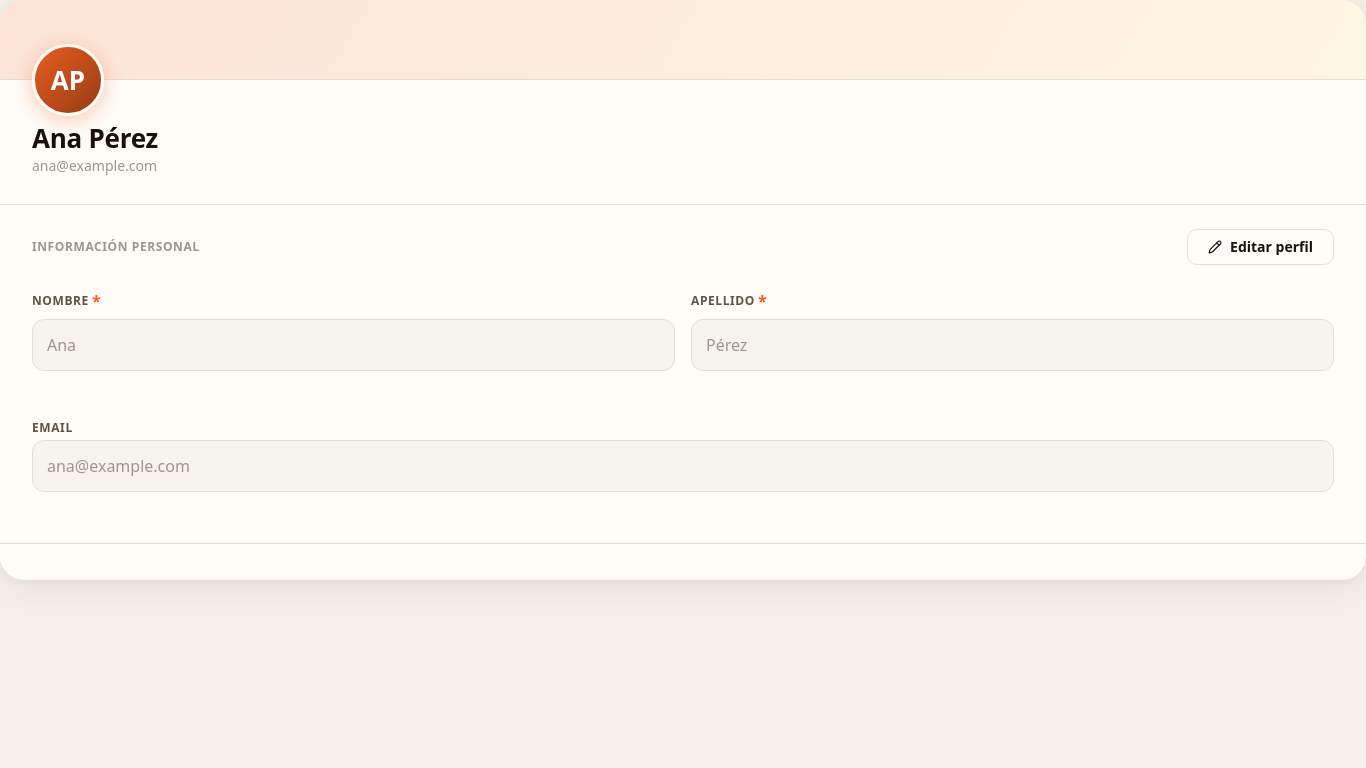
ProfileForm › restores the loaded values when Cancelar is clicked
Click the button "Editar perfil" at (1260, 247), box [1187,229,1334,265]
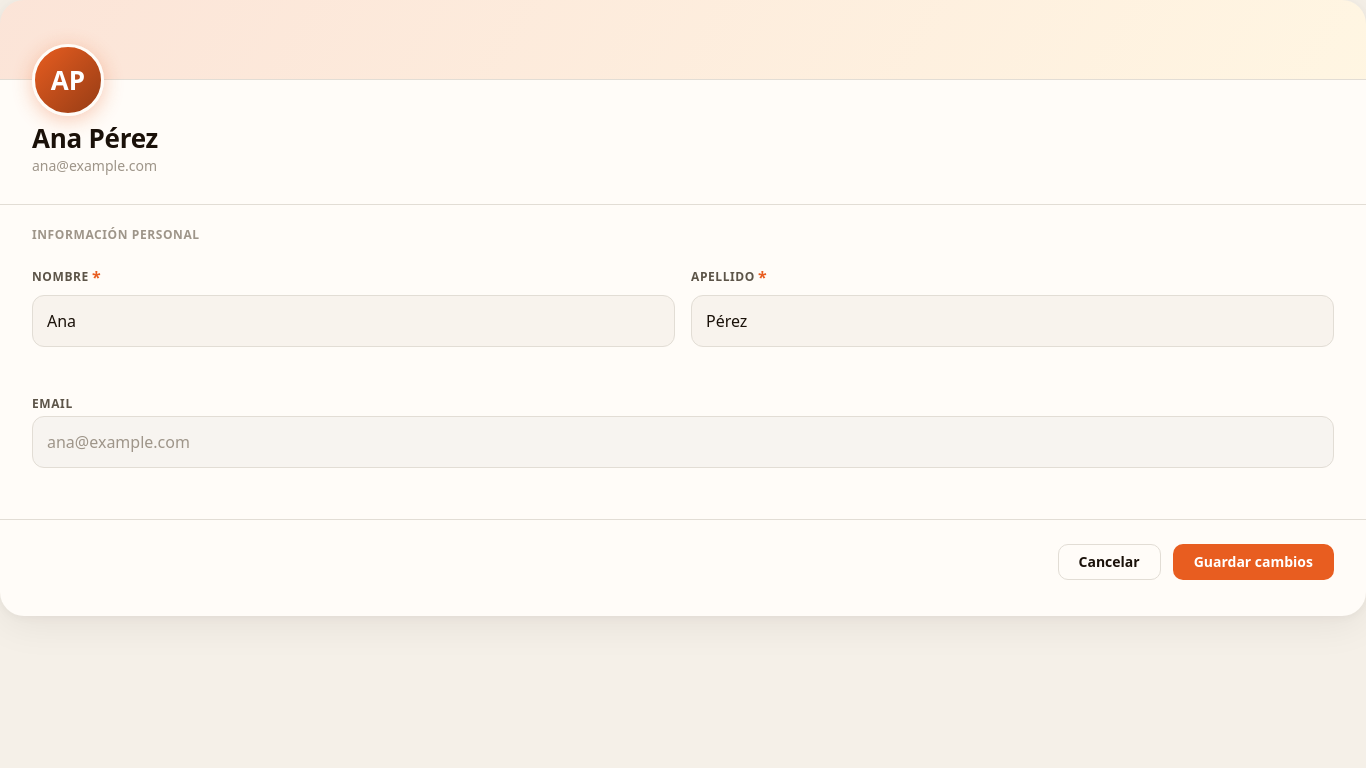
Clear the field labelled "Nombre" at (354, 321), box [32,295,675,347]
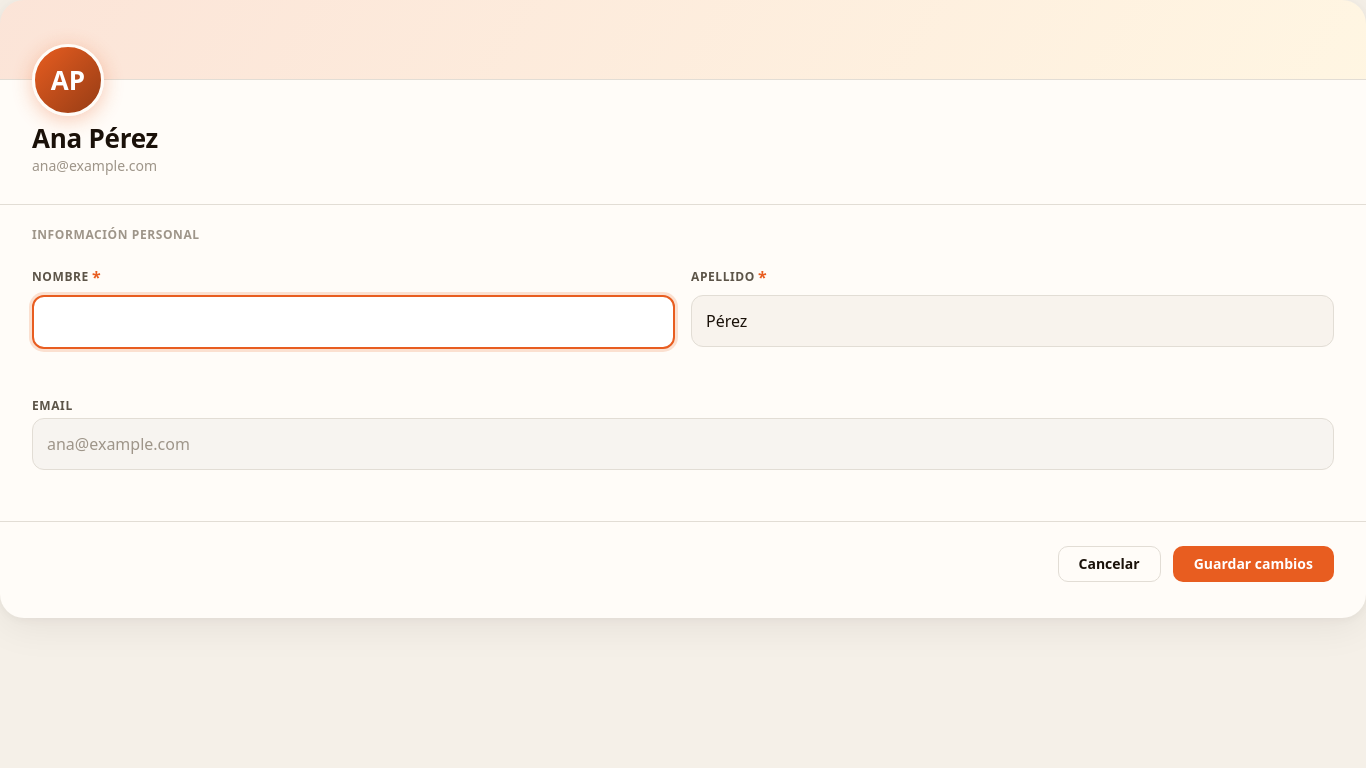
Type "Otro nombre" into the field labelled "Nombre" at (354, 322), box [32,295,675,349]
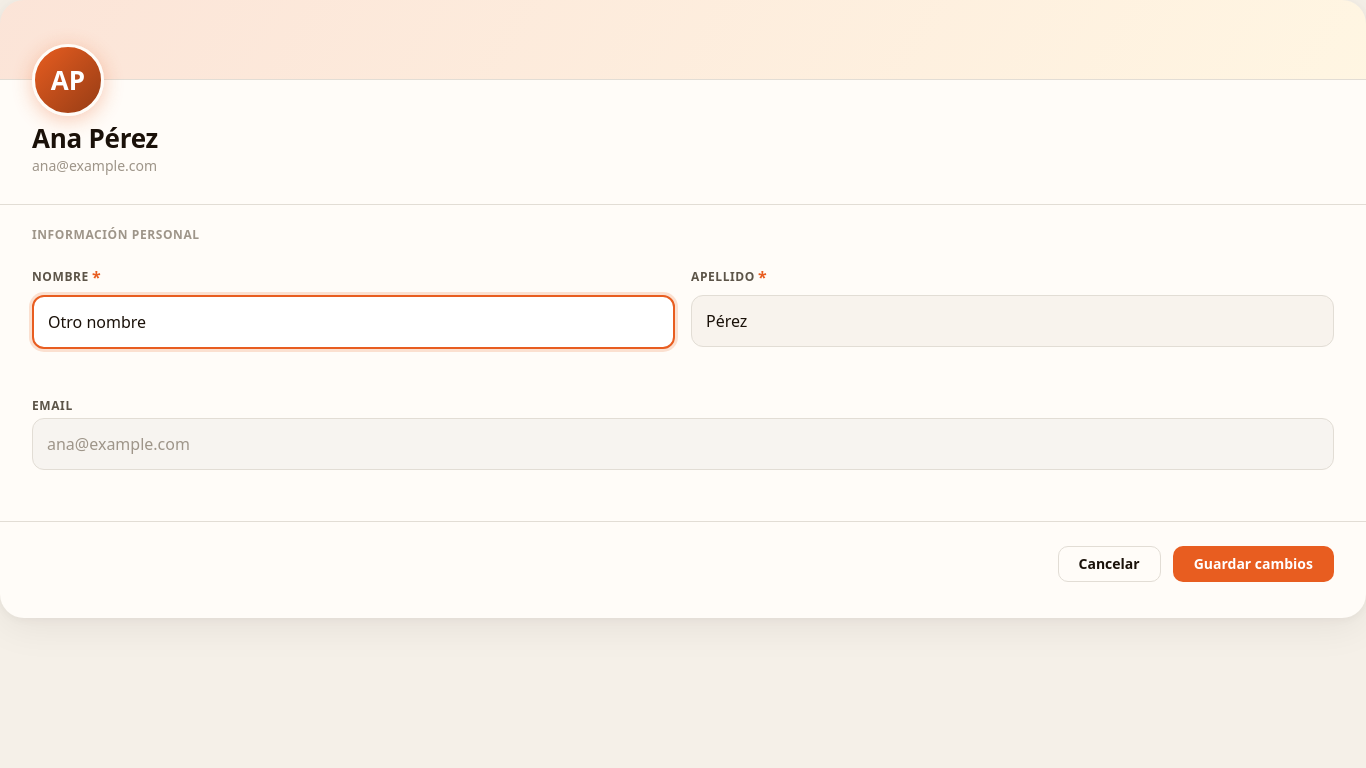
Click the button "Cancelar" at (1109, 564), box [1058,546,1161,582]
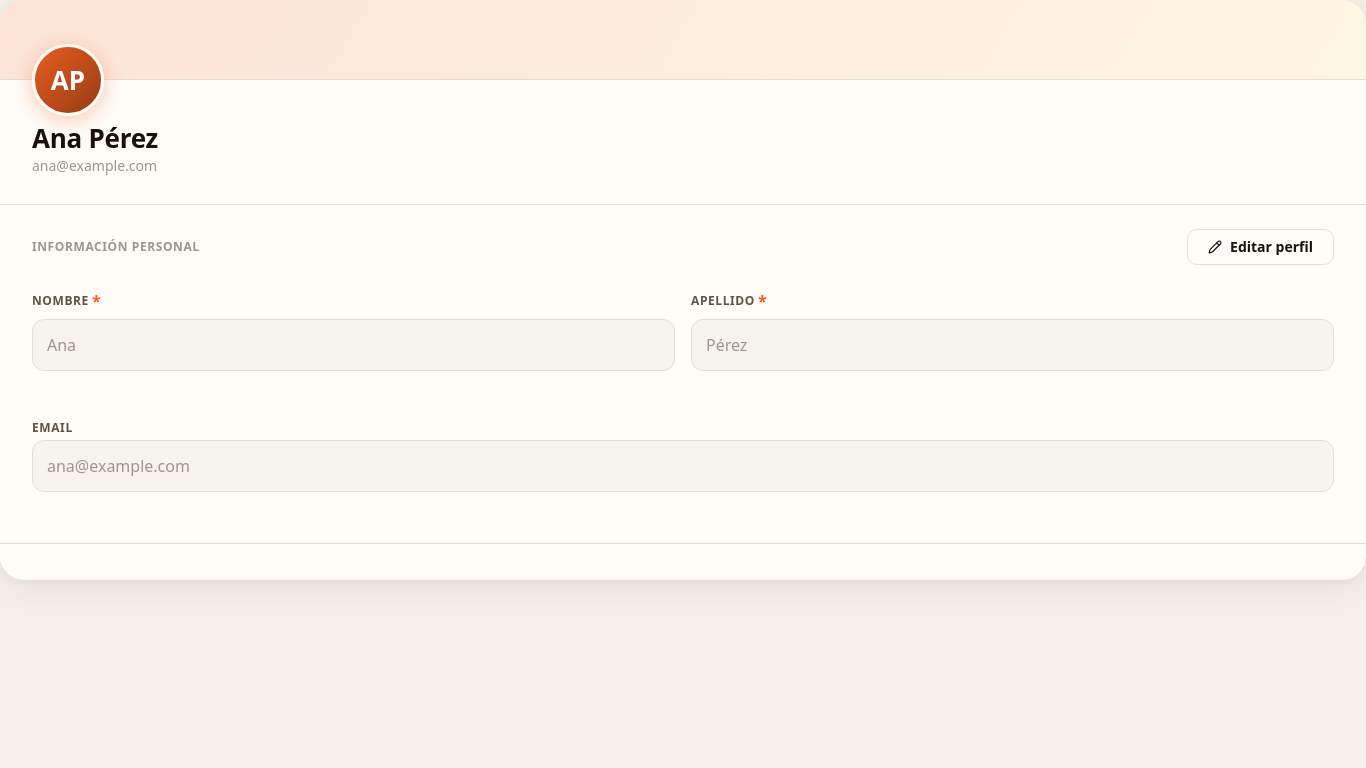
Expected: the field labelled "Nombre" holds "Ana", [32,319,675,371]
